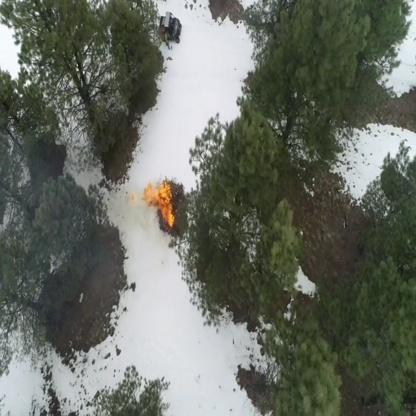Fire: (142, 179, 175, 228)
